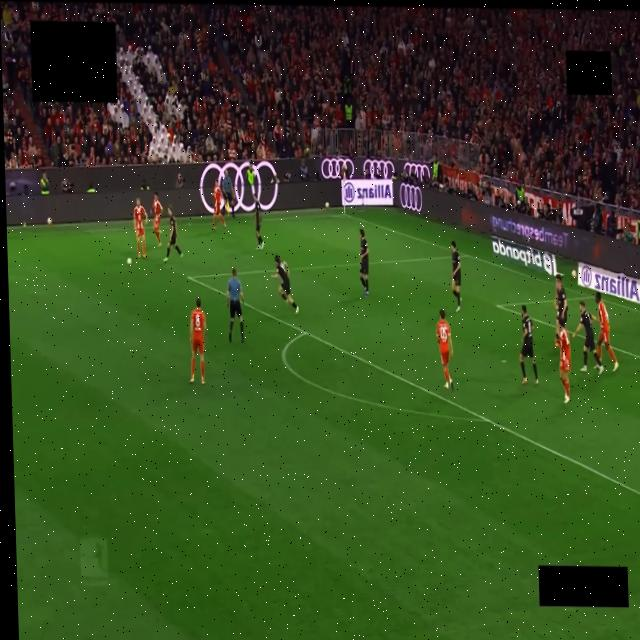ball: (127, 258, 132, 264)
player: (573, 301, 603, 374), (595, 293, 618, 372), (272, 255, 298, 314), (189, 299, 206, 384), (519, 306, 537, 384), (436, 310, 452, 390), (556, 318, 570, 403), (164, 205, 182, 261), (133, 198, 147, 257), (359, 229, 369, 296), (451, 241, 460, 312), (555, 274, 567, 326), (213, 179, 225, 230), (151, 193, 161, 246), (254, 200, 263, 250)
referee: (226, 268, 243, 342)
